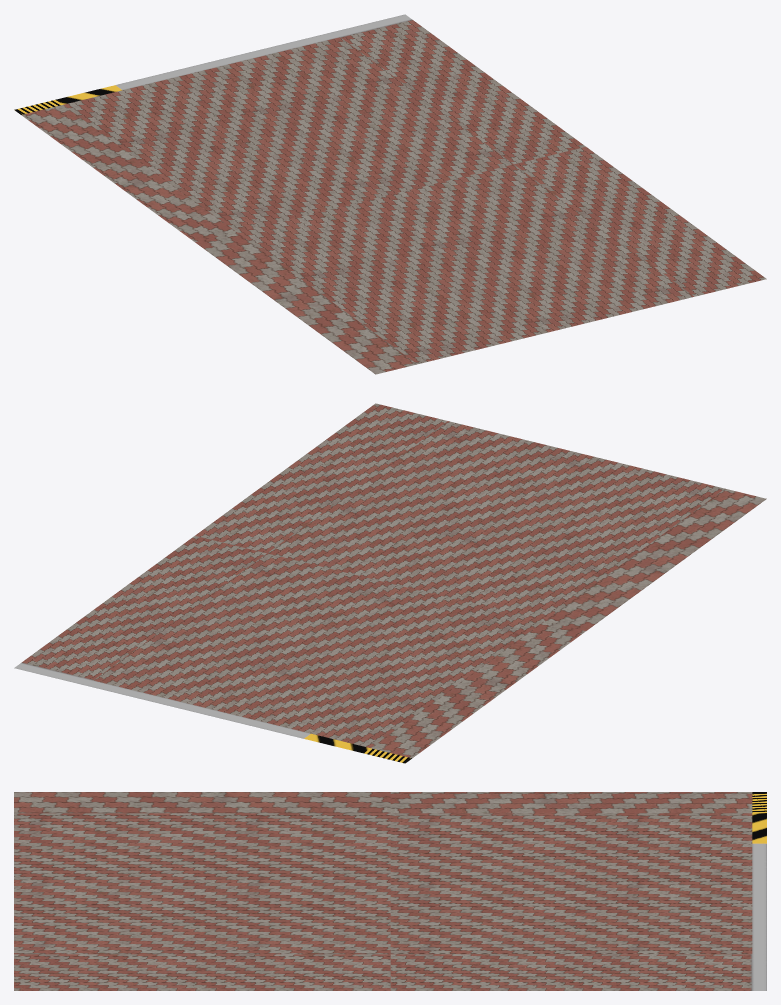
File: mainLaneEndFlipped (1).fbx
3 renders of one model, top to bottom at view 1: azimuth 30°, elevation 25°; view 2: azimuth 150°, elevation 25°; view 3: azimuth 270°, elevation 25°, orthographic. The views are drawn at different scales.
Visible parts, largest first — view 1: main_laneEndFlipped; view 2: main_laneEndFlipped; view 3: main_laneEndFlipped.
Part boxes in pixels (left/top/right/bottom): main_laneEndFlipped: left=14, top=14, right=766, bottom=374; main_laneEndFlipped: left=14, top=403, right=766, bottom=763; main_laneEndFlipped: left=14, top=792, right=766, bottom=990.
Bounding box in the file's own units: 10 × 0 × 16.01.
